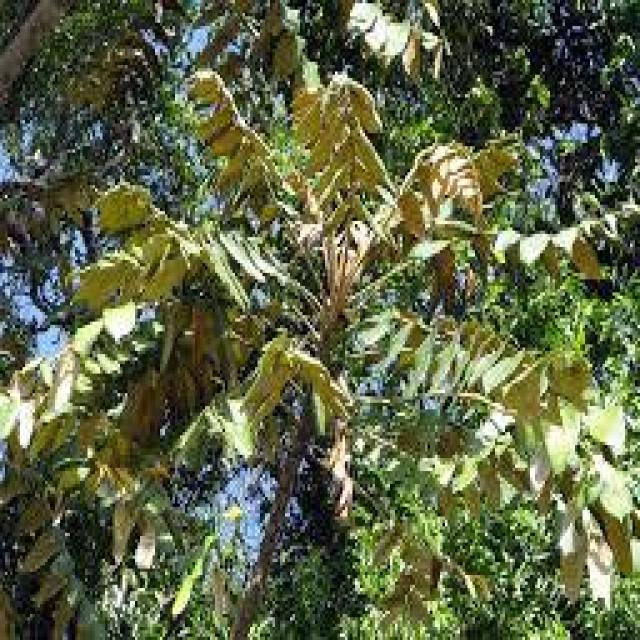Polyscias fulva: (6, 19, 634, 609)
